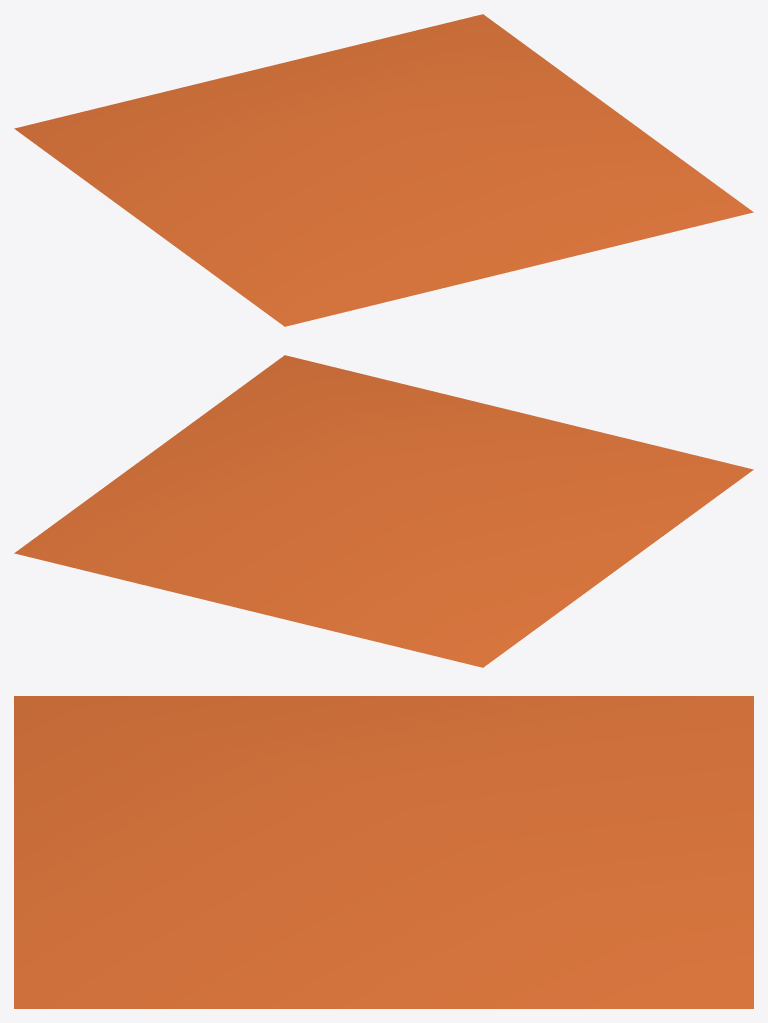
File: FloorGrass_02.fbx
The picture shows the model from 3 angles, top to bottom: view 1: azimuth 30°, elevation 25°; view 2: azimuth 150°, elevation 25°; view 3: azimuth 270°, elevation 25°; orthographic projection. The views are drawn at different scales.
Parts seen in each view (by area): view 1: Plane.002; view 2: Plane.002; view 3: Plane.002.
Part boxes in pixels (x1,y1,x2,y2): Plane.002: (14,14,753,326); Plane.002: (14,355,753,667); Plane.002: (14,696,753,1008).
Size of the model in its own units: 42.23 by 3.86 by 42.23.
